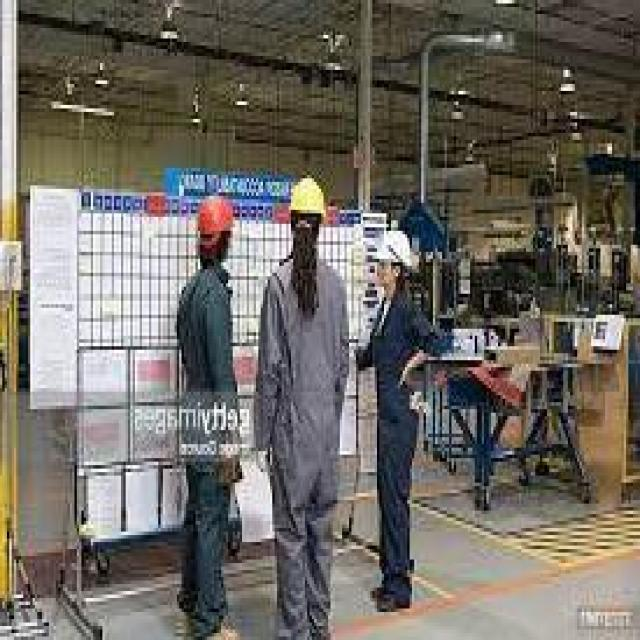Safety-Helmet: (280, 164, 338, 234), (186, 186, 242, 248), (365, 224, 419, 287)
